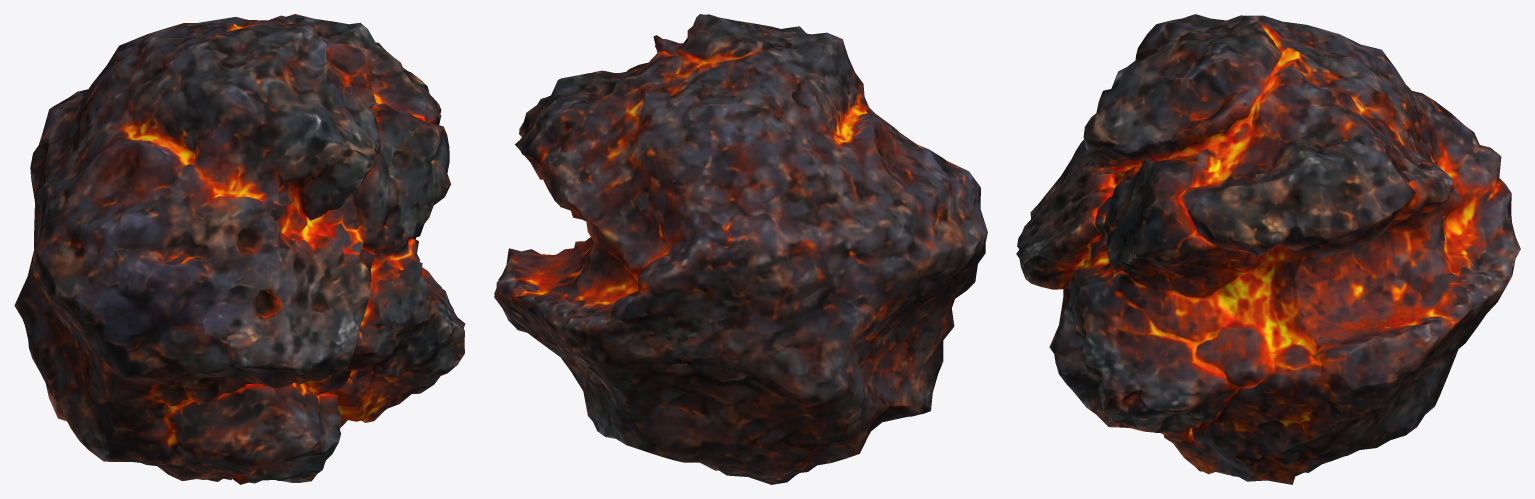
File: lava_rock_b.glb
3 views of the same model, side by side, from view 1: azimuth 30°, elevation 25°; view 2: azimuth 150°, elevation 25°; view 3: azimuth 270°, elevation 25° (orthographic). The views are drawn at different scales.
Visible parts, largest first — view 1: lava_rock_b; view 2: lava_rock_b; view 3: lava_rock_b.
Part boxes in pixels (x1,y1,x2,y2): lava_rock_b: (14,14,465,484); lava_rock_b: (494,14,987,484); lava_rock_b: (1016,14,1520,484).
Size of the model in its own units: 0.9019 by 0.9404 by 0.9604.
1 material, 1 textured.
